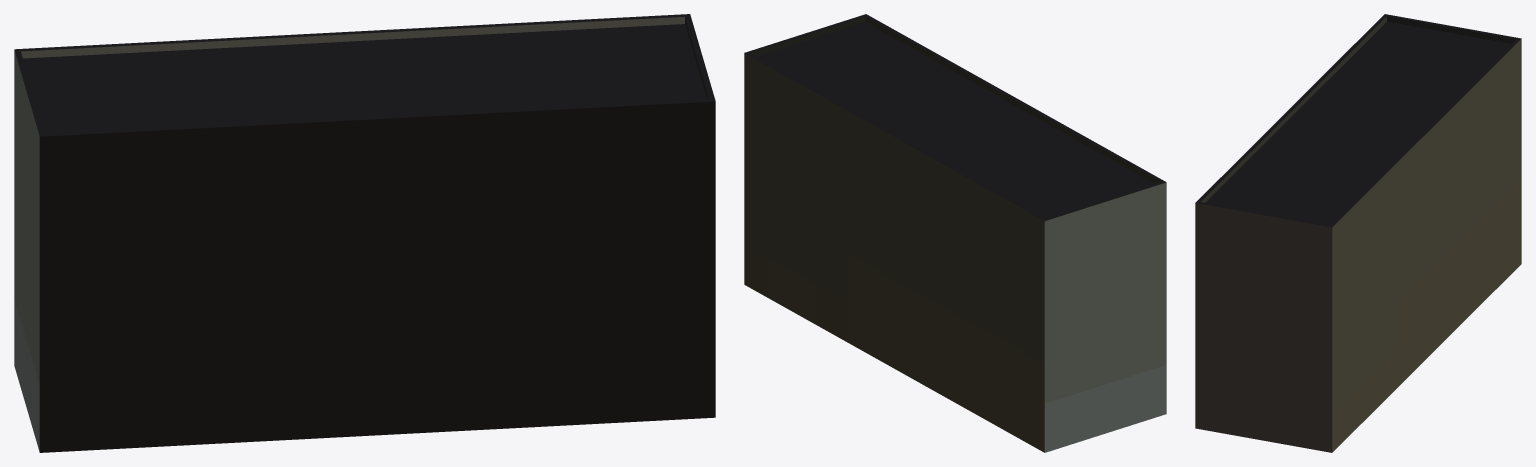
File: lupton-building.glb
3 renders of one model, left to right at view 1: azimuth 30°, elevation 25°; view 2: azimuth 150°, elevation 25°; view 3: azimuth 270°, elevation 25°, orthographic. The views are drawn at different scales.
Visible parts, largest first — view 1: LOD0; view 2: LOD0; view 3: LOD0.
Part boxes in pixels (x1,y1,x2,y2): LOD0: (14,14,715,452); LOD0: (744,14,1166,452); LOD0: (1195,14,1521,452).
Size of what is drawn, in the model's own units: 54.43 by 26.8 by 35.17.
1 material, 1 textured.
